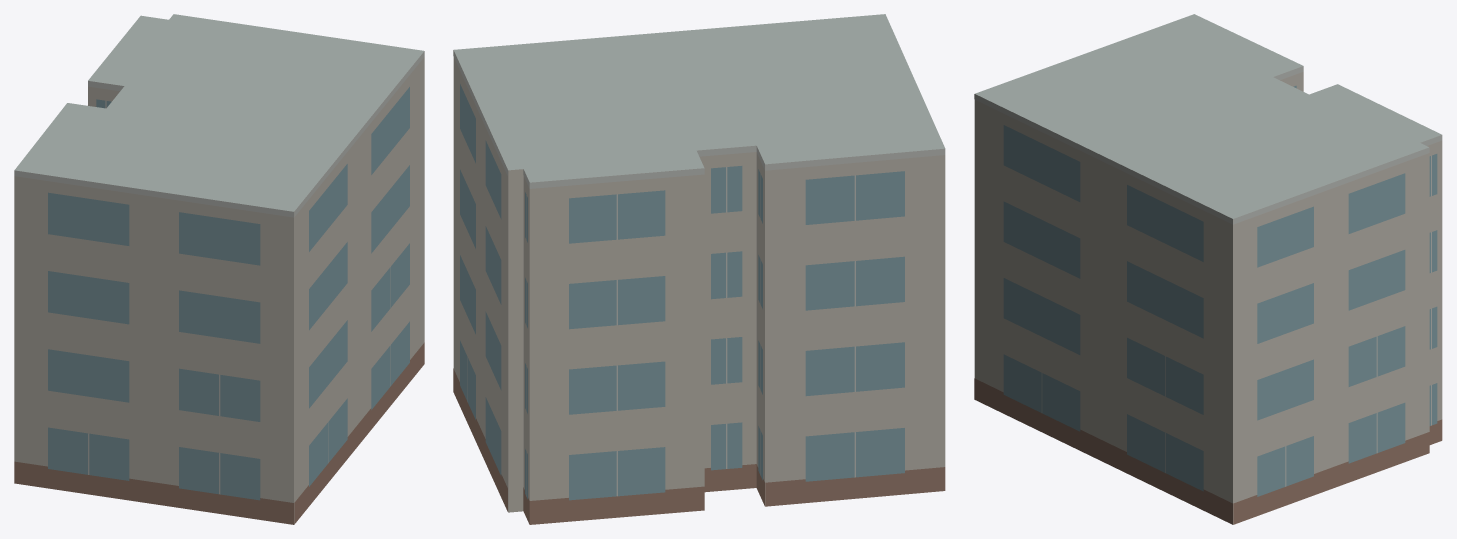
Rendered from survey-upis-32745767.glb.
3 renders of one model, left to right at view 1: azimuth 30°, elevation 25°; view 2: azimuth 150°, elevation 25°; view 3: azimuth 270°, elevation 25°, orthographic. The views are drawn at different scales.
Parts seen in each view (by area): view 1: survey-upis-32745767.tmp; view 2: survey-upis-32745767.tmp; view 3: survey-upis-32745767.tmp.
Part boxes in pixels (x1,y1,x2,y2): survey-upis-32745767.tmp: (14,14,424,524); survey-upis-32745767.tmp: (453,14,945,524); survey-upis-32745767.tmp: (974,14,1442,524).
Bounding box in the file's own units: 18.95 × 13.18 × 18.27.
